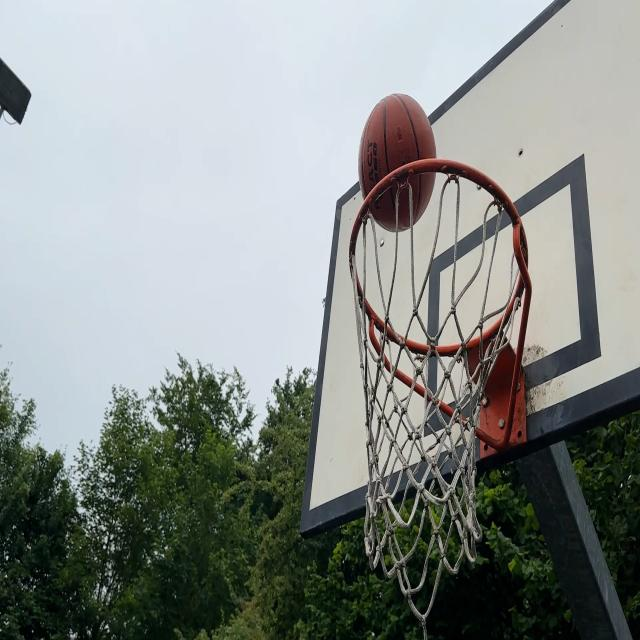rebound_hit: (358, 94, 436, 234)
